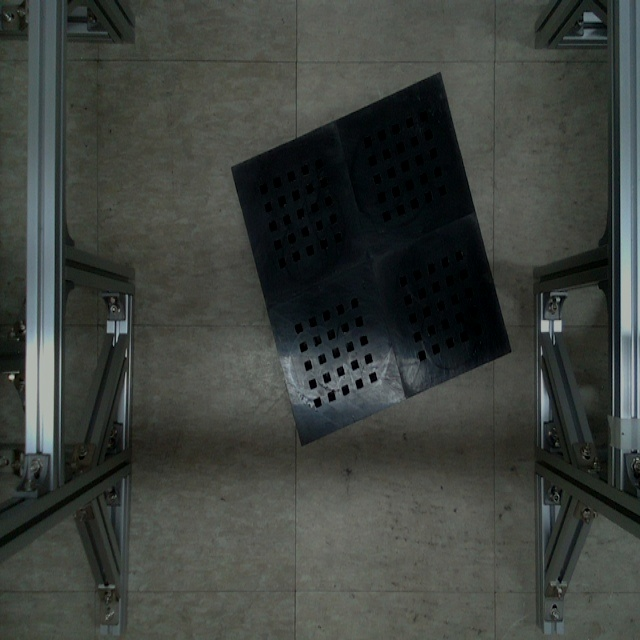pallet: (222, 65, 520, 455)
